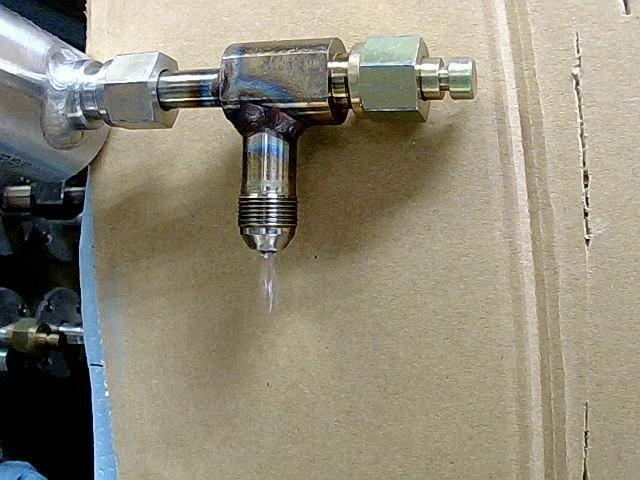water drop: (259, 252, 277, 317)
